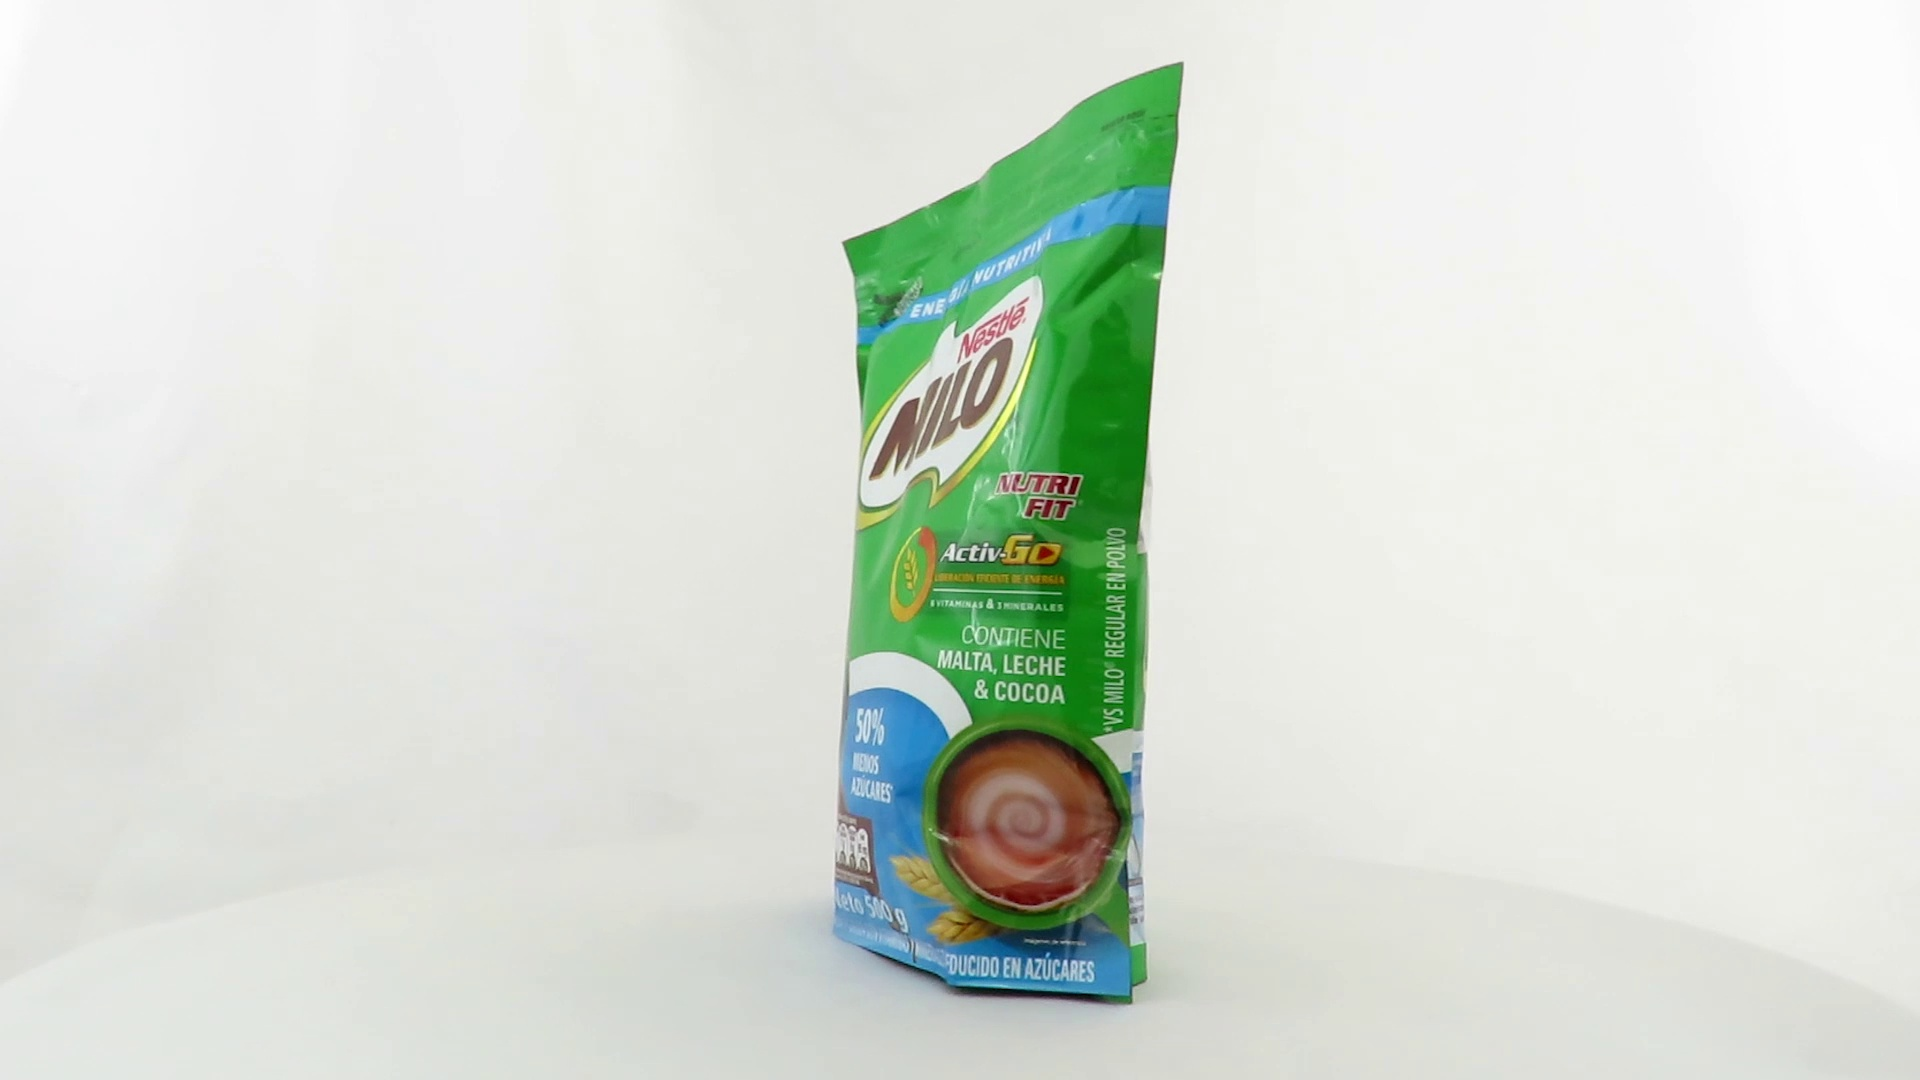COL0170205DYP50000: (827, 55, 1189, 1011)
